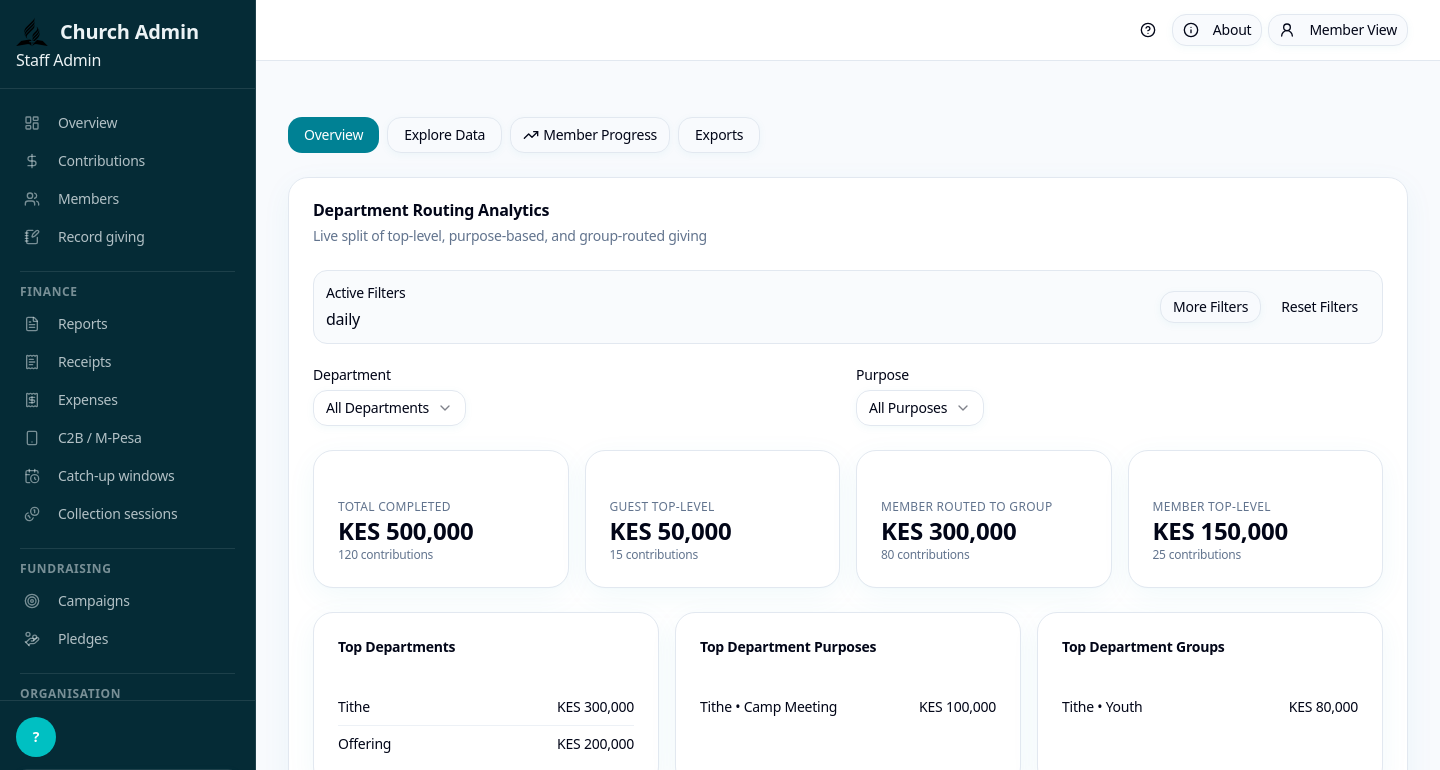
it: ReportsPage › renders the Treasurer's Cash Statement card first in Exports mode
Click the button "Exports".
click(719, 135)  # box [678,117,760,153]
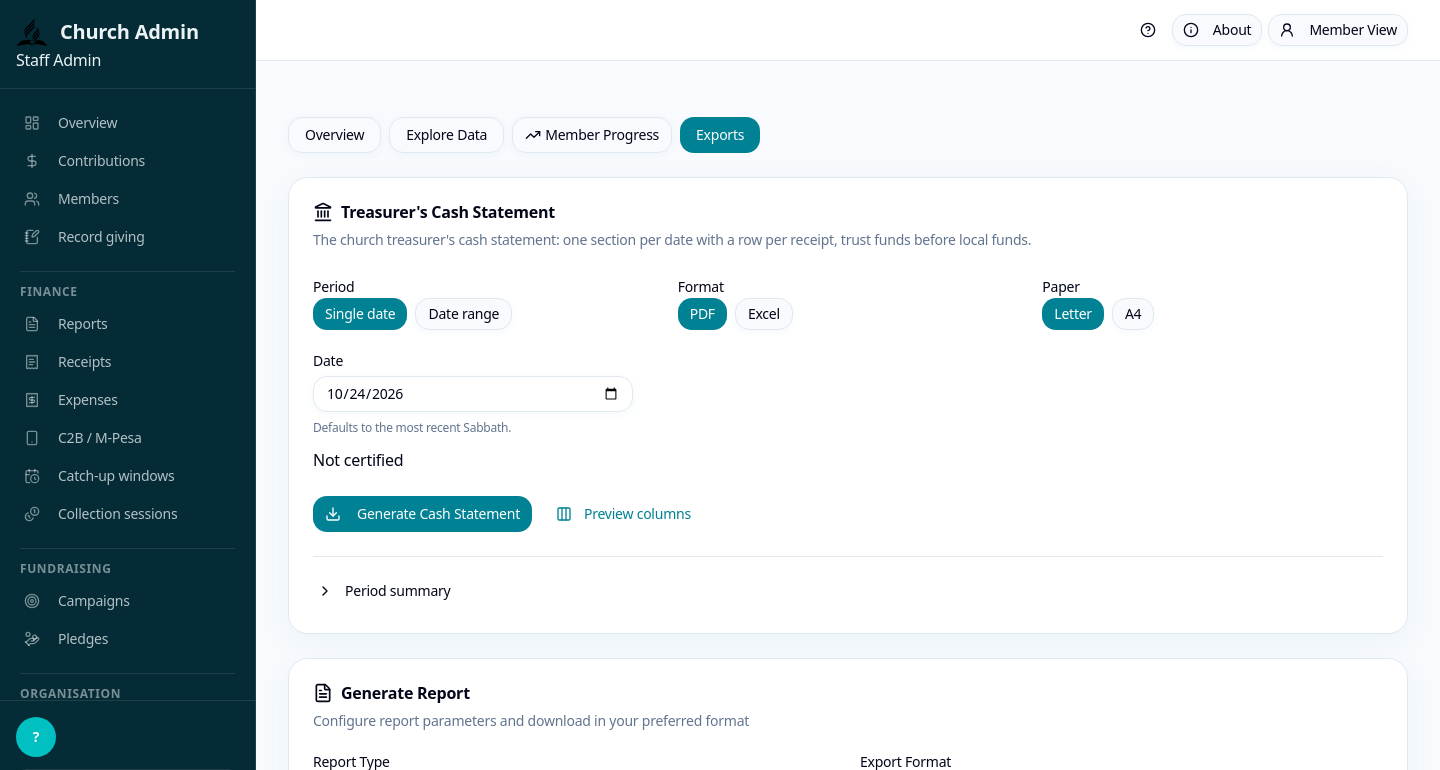
Now the button "Preview columns" is shown, box [544,496,703,532]
